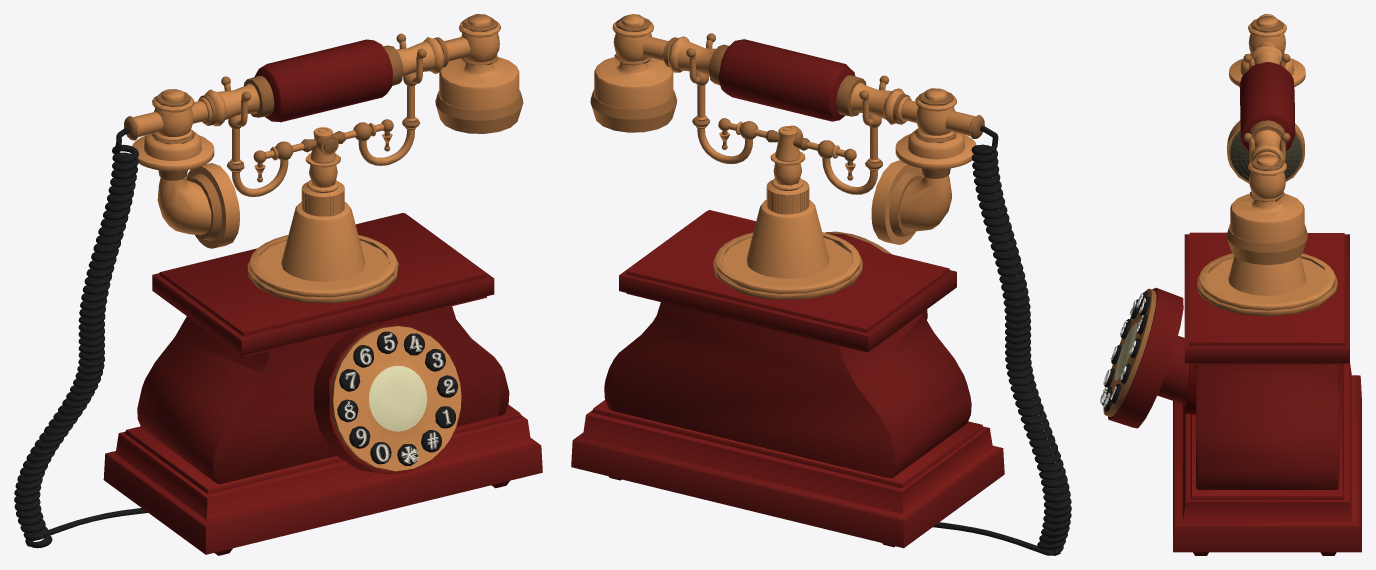
Rendered from antique_telephone.lod2.glb.
The picture shows the model from 3 angles, left to right: view 1: azimuth 30°, elevation 25°; view 2: azimuth 150°, elevation 25°; view 3: azimuth 270°, elevation 25°; orthographic projection. The views are drawn at different scales.
Parts seen in each view (by area): view 1: Cube.006_40, Cube.001_38, Cube_37, Circle.033_42, Circle.035_46, Cylinder.009_13, Circle.002_2, Circle.001_1, Circle.040_43, Cylinder.011_23, Circle.031_31, Circle.032_41 (+17 smaller); view 2: Cube.006_40, Cube.001_38, Cube_37, Circle.035_46, Cylinder.009_13, Circle.002_2, Circle.001_1, Cylinder.011_23, Circle.031_31, Circle.036_52, Circle.003_54, Cylinder.012_24 (+15 smaller); view 3: Cube.006_40, Cube.001_38, Cube_37, Circle.032_41, Circle.001_1, Cylinder.009_13, Cylinder.011_23, Circle.002_2, Circle.033_42, Cylinder.012_24, Circle.046_44, Circle.031_31 (+10 smaller).
Part boxes in pixels (<box>): Cube.006_40: <box>137,306,509,484</box>; Cube.001_38: <box>103,404,542,554</box>; Cube_37: <box>152,213,494,356</box>; Circle.033_42: <box>330,326,461,471</box>; Circle.035_46: <box>14,144,138,548</box>; Cylinder.009_13: <box>254,39,392,122</box>; Circle.002_2: <box>281,202,364,281</box>; Circle.001_1: <box>250,235,396,297</box>; Circle.040_43: <box>337,331,457,465</box>; Cylinder.011_23: <box>439,57,519,130</box>; Circle.031_31: <box>205,37,444,126</box>; Circle.032_41: <box>314,322,459,473</box>; Cube.006_40: <box>604,302,971,478</box>; Cube.001_38: <box>571,400,1004,548</box>; Cube_37: <box>619,210,956,352</box>; Circle.035_46: <box>971,144,1071,551</box>; Cylinder.009_13: <box>719,39,855,121</box>; Circle.002_2: <box>746,200,829,278</box>; Circle.001_1: <box>715,232,860,293</box>; Cylinder.011_23: <box>594,57,673,129</box>; Circle.031_31: <box>668,36,905,124</box>; Circle.036_52: <box>871,160,923,244</box>; Circle.003_54: <box>899,175,951,231</box>; Cylinder.012_24: <box>590,89,677,132</box>; Cube.006_40: <box>1196,364,1338,489</box>; Cube.001_38: <box>1173,363,1361,552</box>; Cube_37: <box>1184,232,1349,364</box>; Circle.032_41: <box>1108,287,1183,428</box>; Circle.001_1: <box>1199,253,1335,310</box>; Cylinder.009_13: <box>1239,62,1295,151</box>; Cylinder.011_23: <box>1230,194,1304,255</box>; Circle.002_2: <box>1228,256,1306,295</box>; Circle.033_42: <box>1103,288,1156,416</box>; Cylinder.012_24: <box>1226,224,1307,264</box>; Circle.046_44: <box>1157,336,1195,414</box>; Circle.031_31: <box>1249,45,1285,161</box>.
Bounding box in the file's own units: 6.99 × 5.97 × 3.49.
